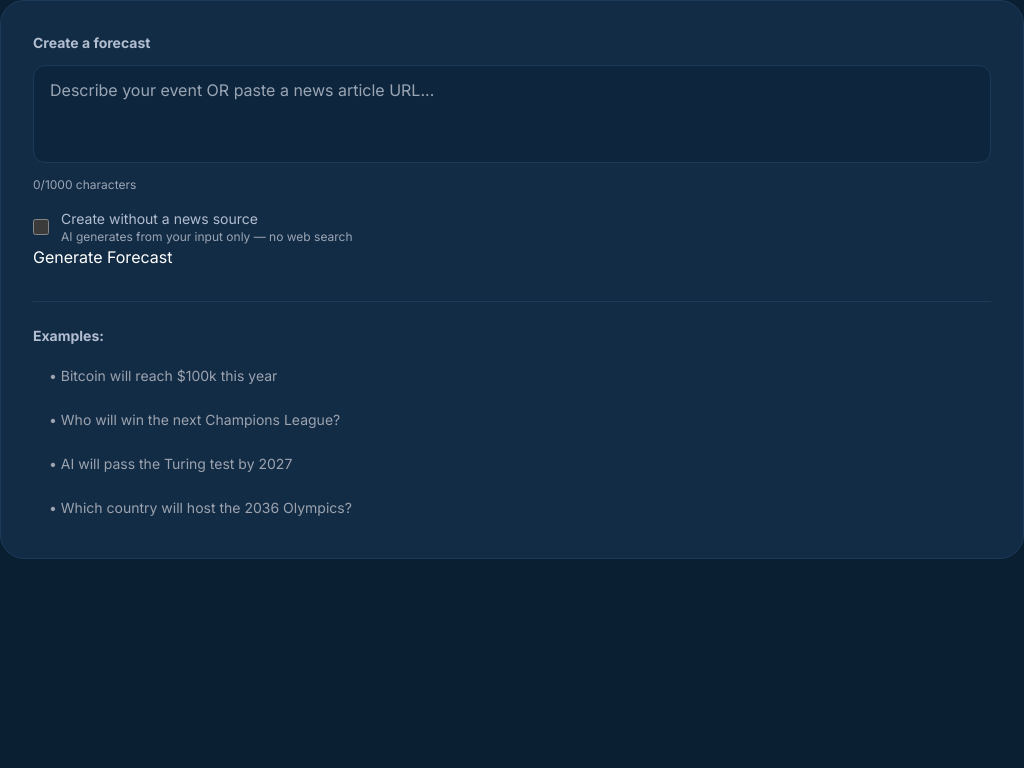
Test: ExpressForecastClient › shows character count
Type "Test input" into the text box with placeholder "Describe your event OR paste a news article URL..." at (512, 114), box [33,65,991,163]
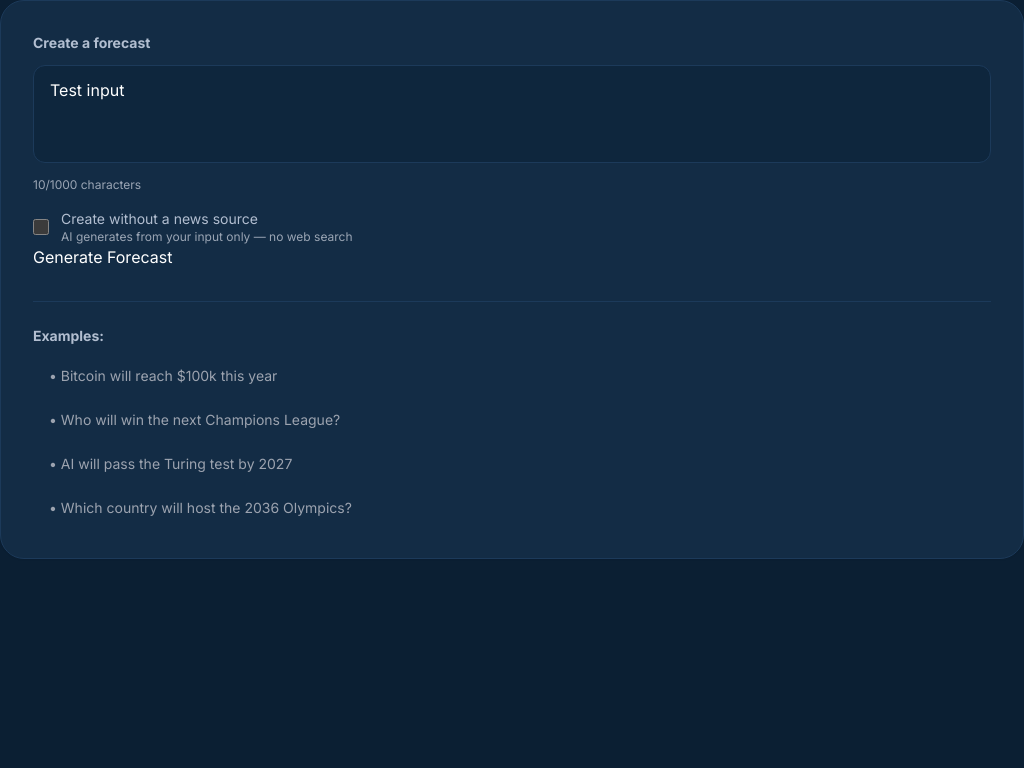
Result: the text "10/1000 characters" is shown at [33,177,141,193]
